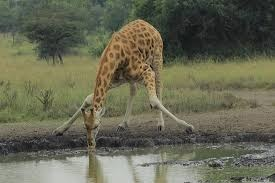giraffe: (50, 16, 198, 150)
